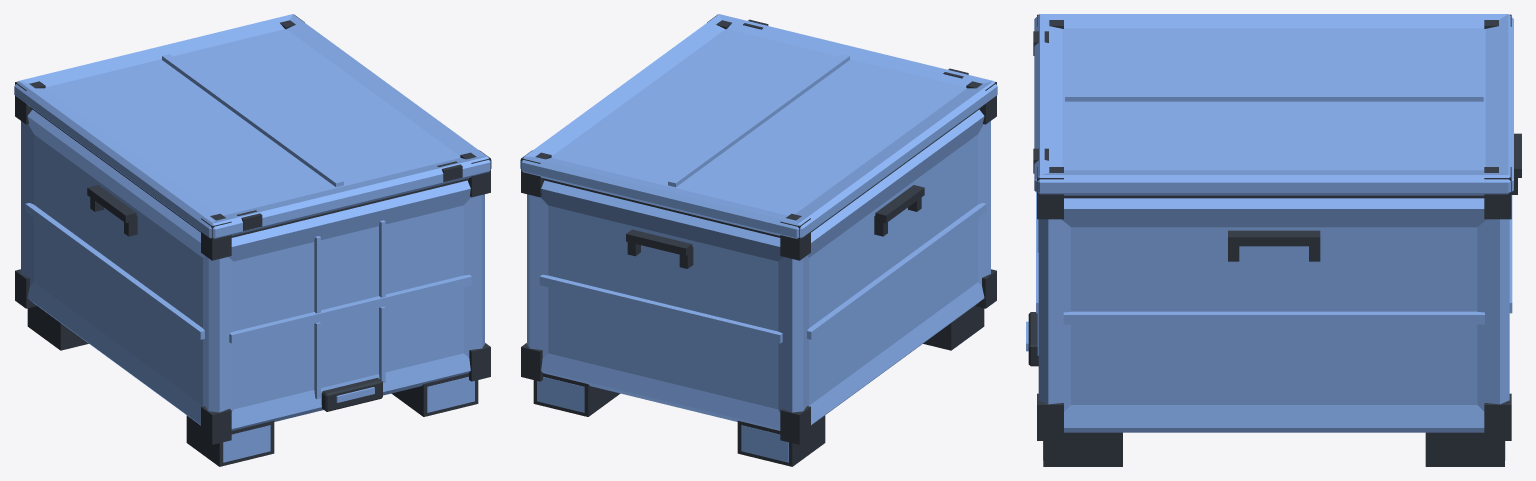
File: cargo_box.glb
The picture shows the model from 3 angles, left to right: view 1: azimuth 30°, elevation 25°; view 2: azimuth 150°, elevation 25°; view 3: azimuth 270°, elevation 25°; orthographic projection. The views are drawn at different scales.
Visible parts, largest first — view 1: Cargo_Body, Cargo_Trim; view 2: Cargo_Body, Cargo_Trim; view 3: Cargo_Body, Cargo_Trim.
Part boxes in pixels (left/top/right/bottom): Cargo_Body: left=14, top=14, right=491, bottom=462; Cargo_Trim: left=15, top=14, right=490, bottom=466; Cargo_Body: left=520, top=14, right=997, bottom=462; Cargo_Trim: left=521, top=14, right=996, bottom=466; Cargo_Body: left=1026, top=14, right=1513, bottom=460; Cargo_Trim: left=1028, top=14, right=1521, bottom=466.
Bounding box in the file's own units: 0.933 × 0.75 × 1.14.
